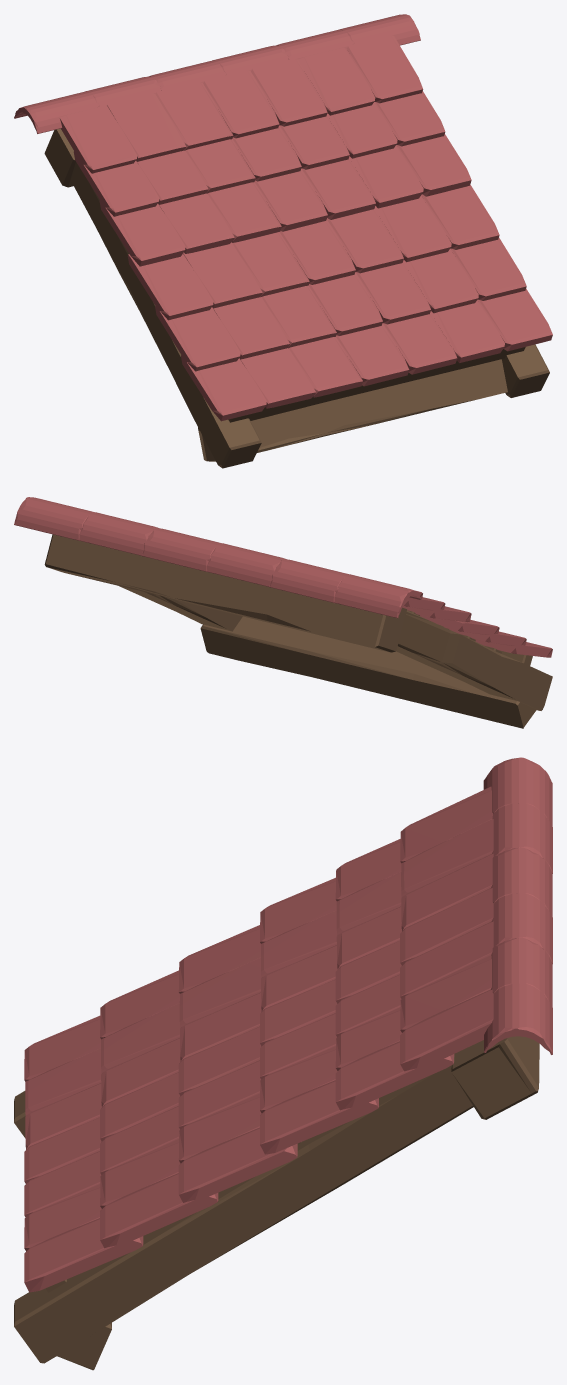
Rendered from PK_Roof_11.fbx.
3 views of the same model, one above another, from view 1: azimuth 30°, elevation 25°; view 2: azimuth 150°, elevation 25°; view 3: azimuth 270°, elevation 25° (orthographic). The views are drawn at different scales.
Visible parts, largest first — view 1: PK_Roof_11; view 2: PK_Roof_11; view 3: PK_Roof_11.
Part boxes in pixels (left/top/right/bottom): PK_Roof_11: left=14, top=14, right=552, bottom=468; PK_Roof_11: left=14, top=497, right=552, bottom=728; PK_Roof_11: left=14, top=757, right=552, bottom=1370.
Size of the model in its own units: 263 by 167 by 221.
